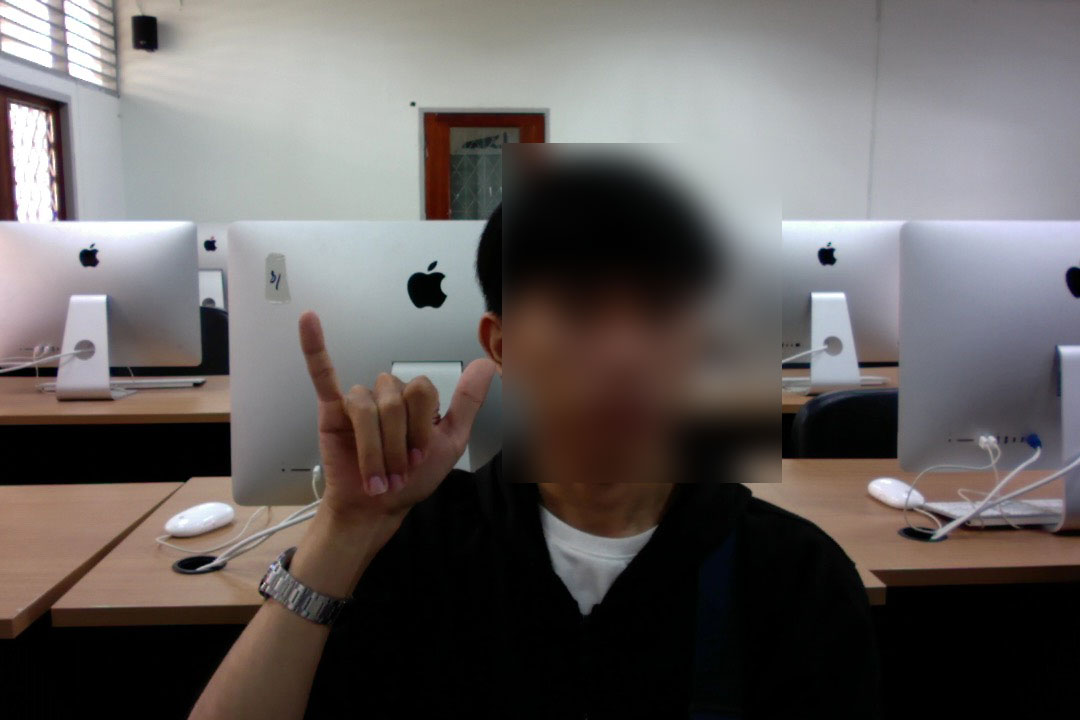yor: (292, 303, 501, 551)
